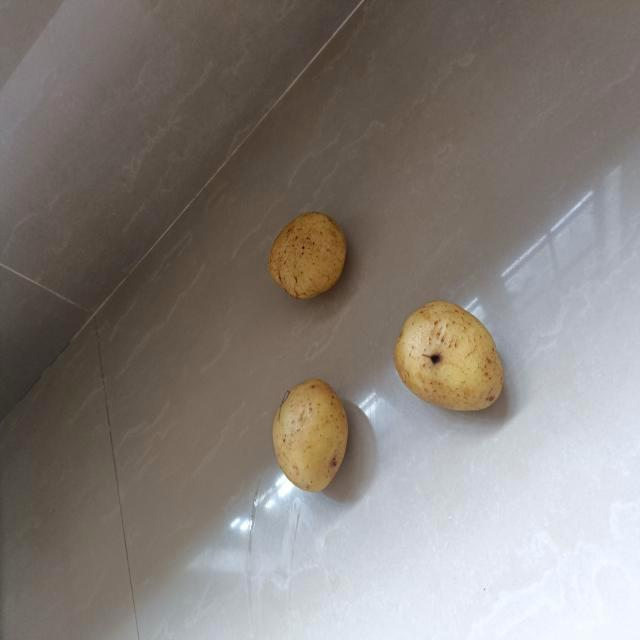potato: (389, 295, 509, 416), (270, 377, 354, 501), (266, 207, 352, 303)
